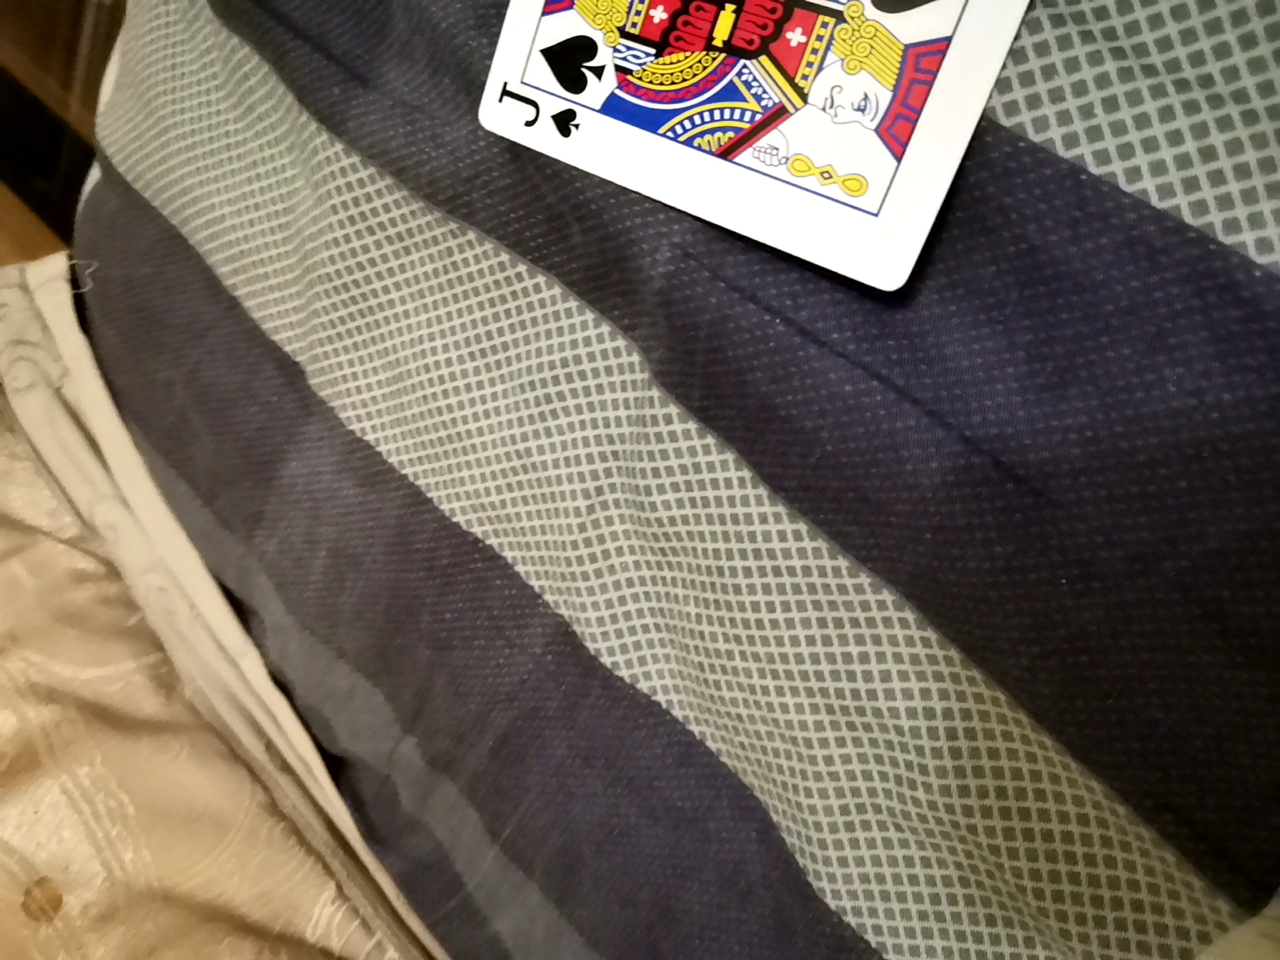ht j: (439, 0, 1121, 297)
